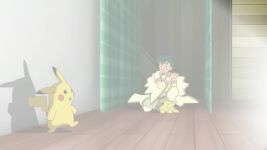pikachu: (28, 65, 83, 137)
